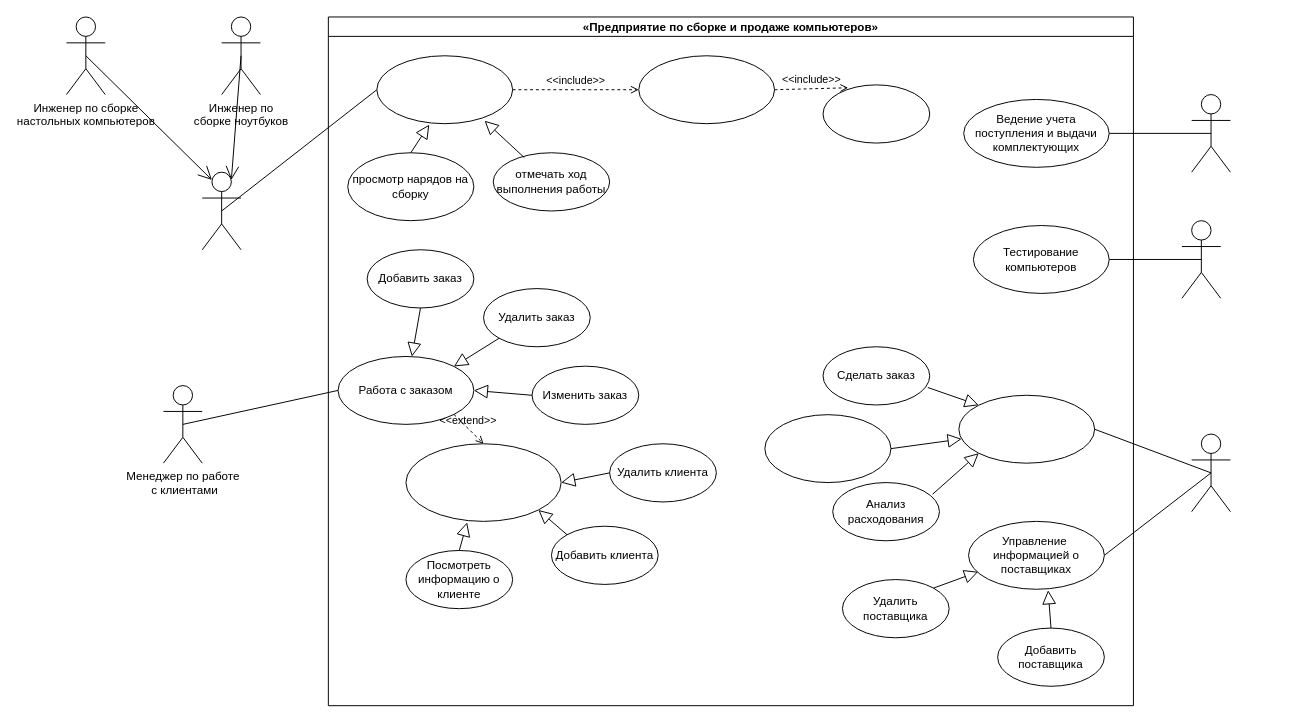
This 1296x723 diagram has some shape labels left out. Here are the shapes that lost their labels. From the top down, the centre of each, then its label:
(x=444, y=89): Сборка компьютеров
(x=706, y=89): Требование необходимых комплектующих
(x=876, y=113): Запрос комплектующих со склада
(x=1210, y=133): Зав. складом
(x=221, y=210): Инженер по сборке
(x=1201, y=259): Инженер по тестированию
(x=827, y=448): Посмотреть информацию о комплектующих
(x=1026, y=428): Управление информацией о комплектующих
(x=483, y=482): Управление информацией о клиенте
(x=1210, y=472): Менеджер по снабжению
